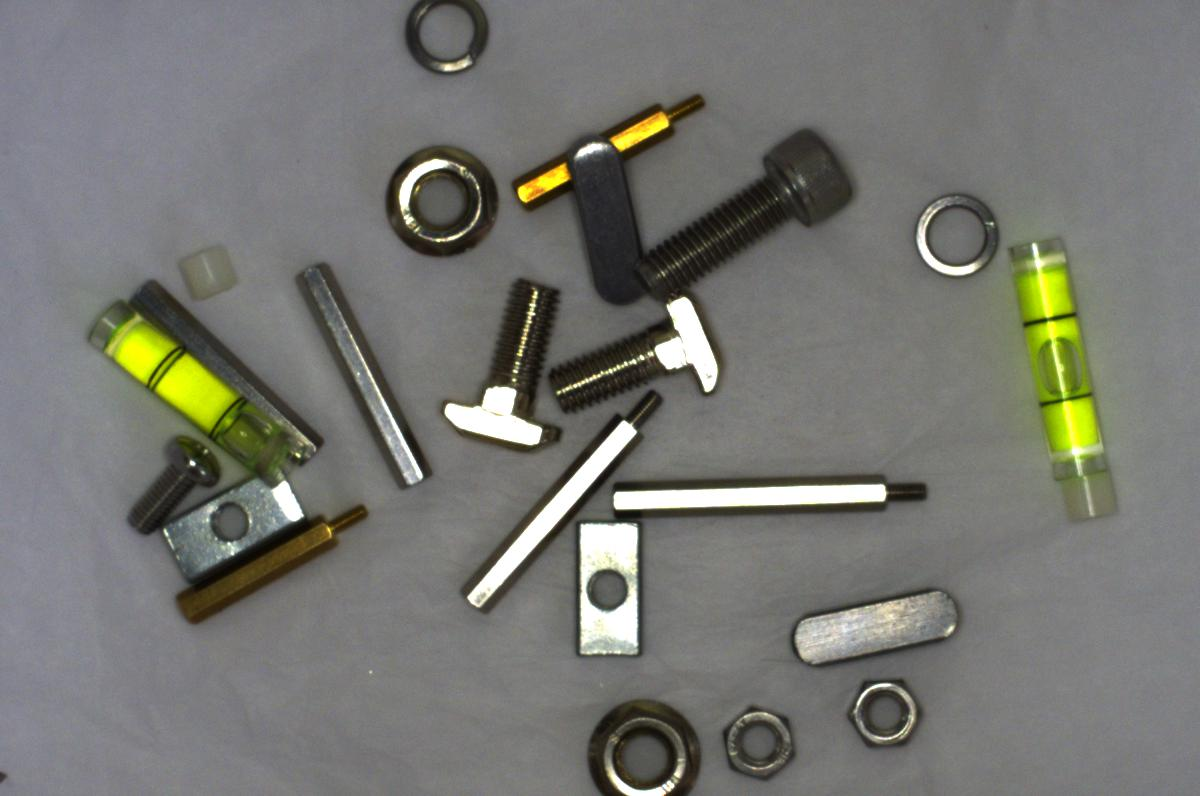Double hexagonal column: (285, 249, 428, 498)
Flange nut: (379, 140, 503, 267), (579, 687, 707, 795)
Hexagon nut: (830, 672, 920, 755), (716, 699, 798, 781)
Hexagon pillar: (156, 489, 370, 624), (505, 76, 720, 210)
Hexagon screw: (623, 121, 870, 295)
Hexagonal steel column: (460, 383, 664, 612), (614, 465, 935, 522)
Horizontal bubble: (64, 296, 288, 480), (1006, 235, 1120, 521)
Keybar: (789, 568, 961, 672), (562, 133, 647, 310)
Plastic cushion pillar: (173, 241, 237, 301)
Rectangular nut: (151, 459, 305, 581), (571, 508, 651, 671)
Round head screw: (123, 427, 225, 539)
Spring washer: (908, 182, 1008, 285), (393, 1, 498, 85)
T-shaped screw: (434, 267, 566, 450), (551, 278, 726, 410)
